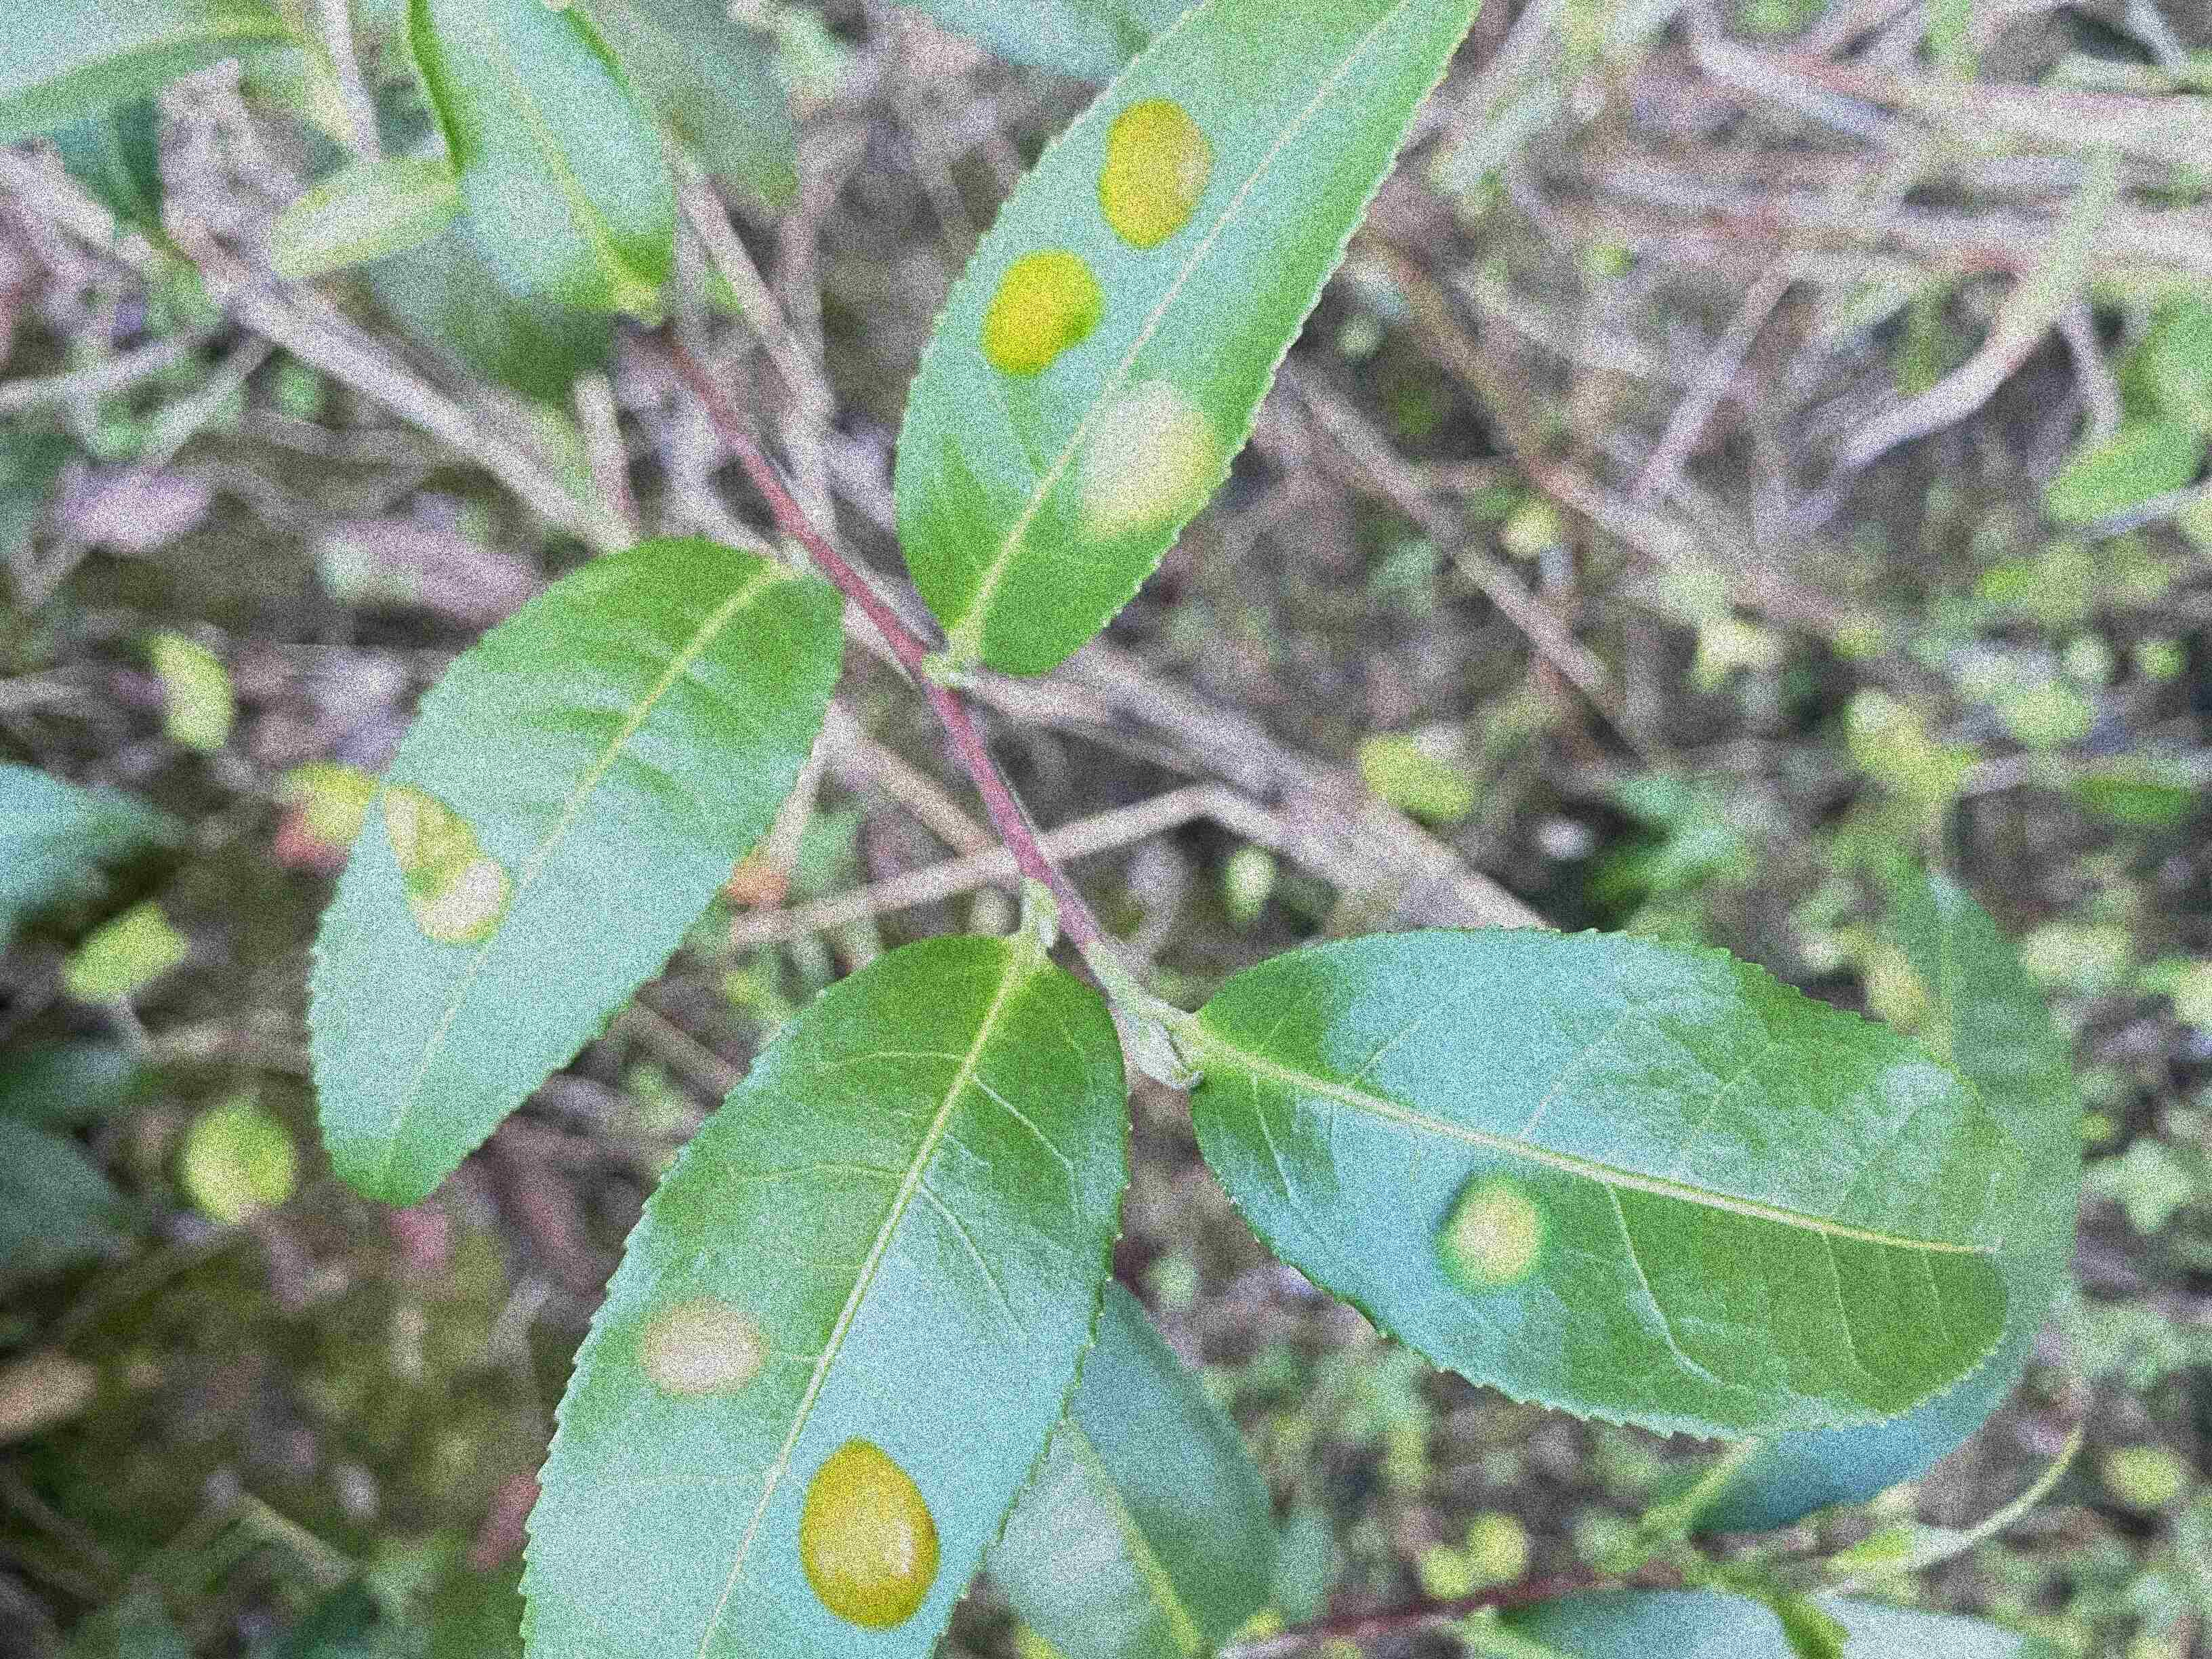chabing_high: (516, 934, 1134, 1659), (892, 3, 1484, 676)
chabing_low: (1193, 920, 2033, 1446), (305, 537, 848, 1211)
